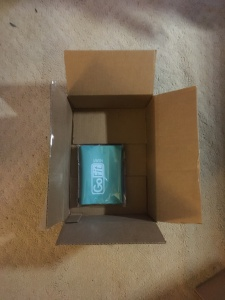innerbox: (68, 95, 154, 221)
outerbox: (50, 50, 202, 246)
product: (77, 143, 124, 204)
